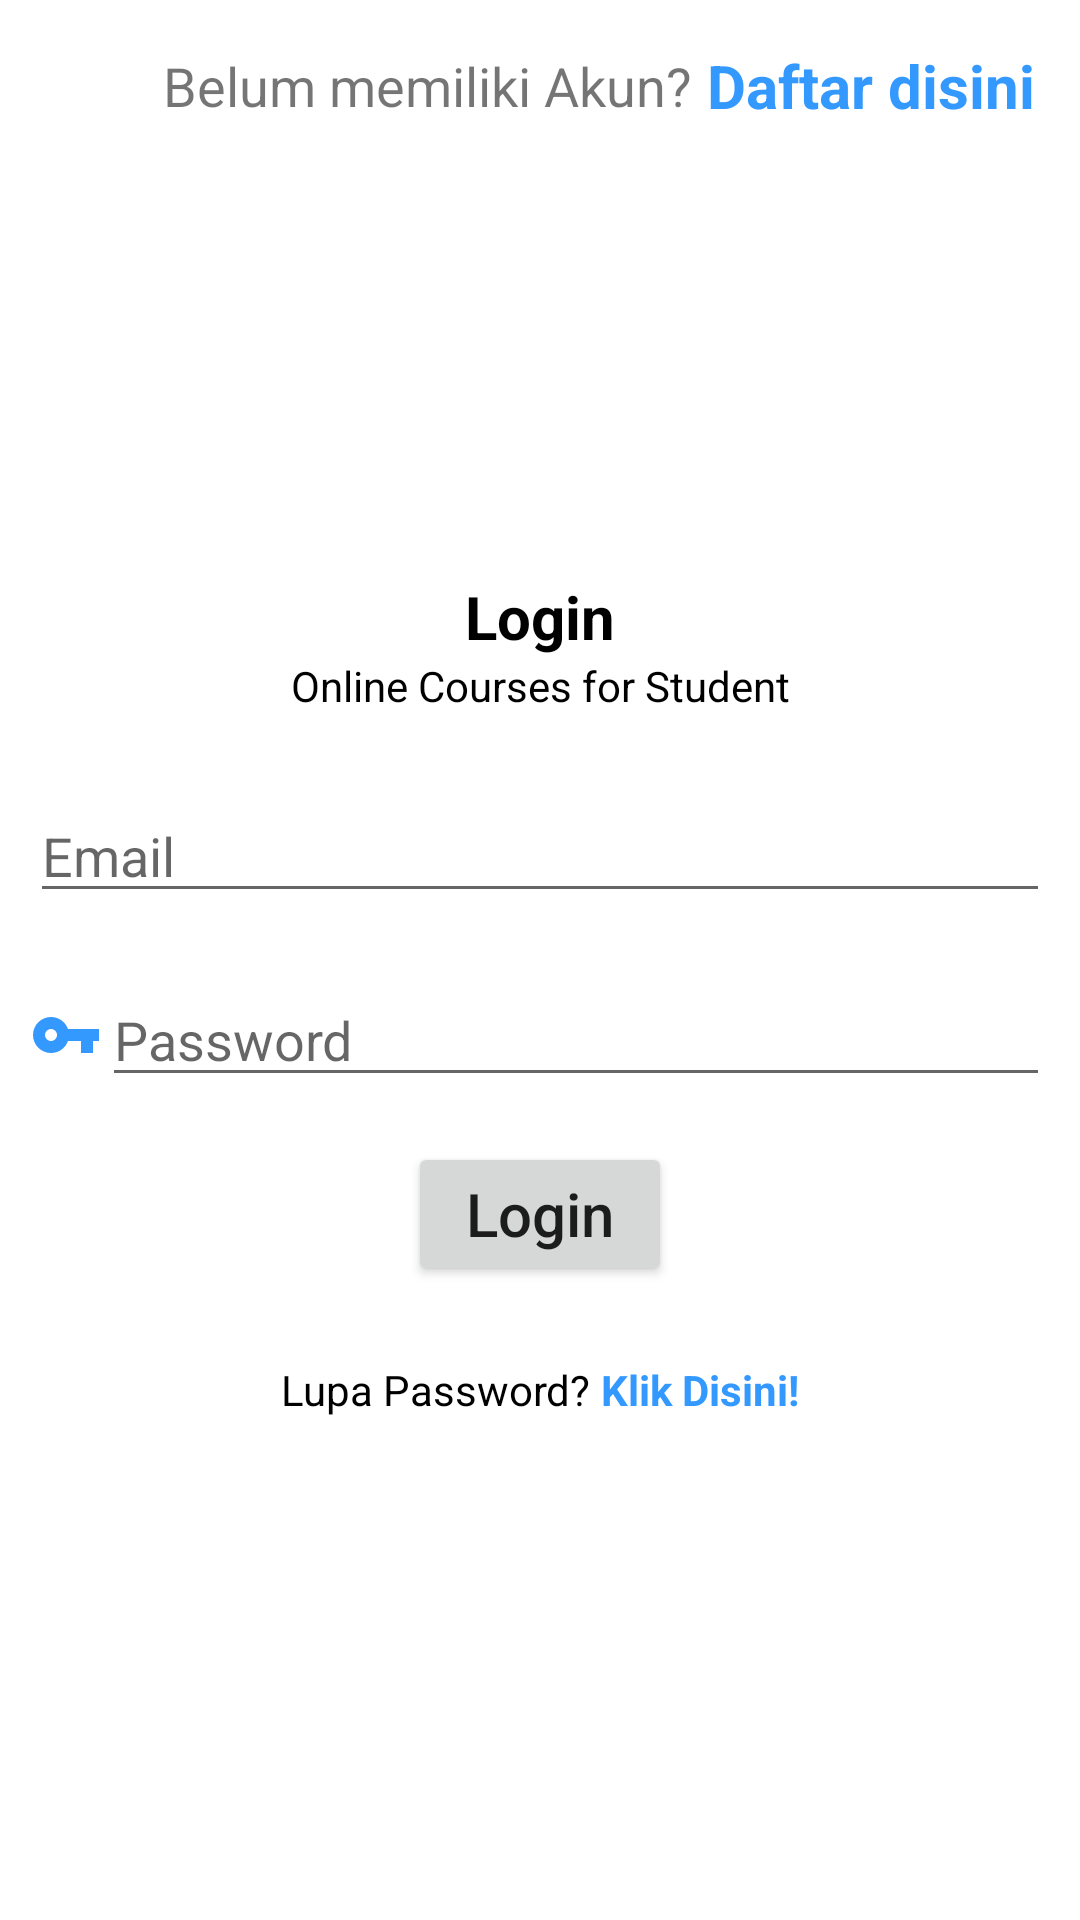

Where to tap for icons on this 1080×1920 app screen, as [x,y]:
vpn key: [66,1035]
